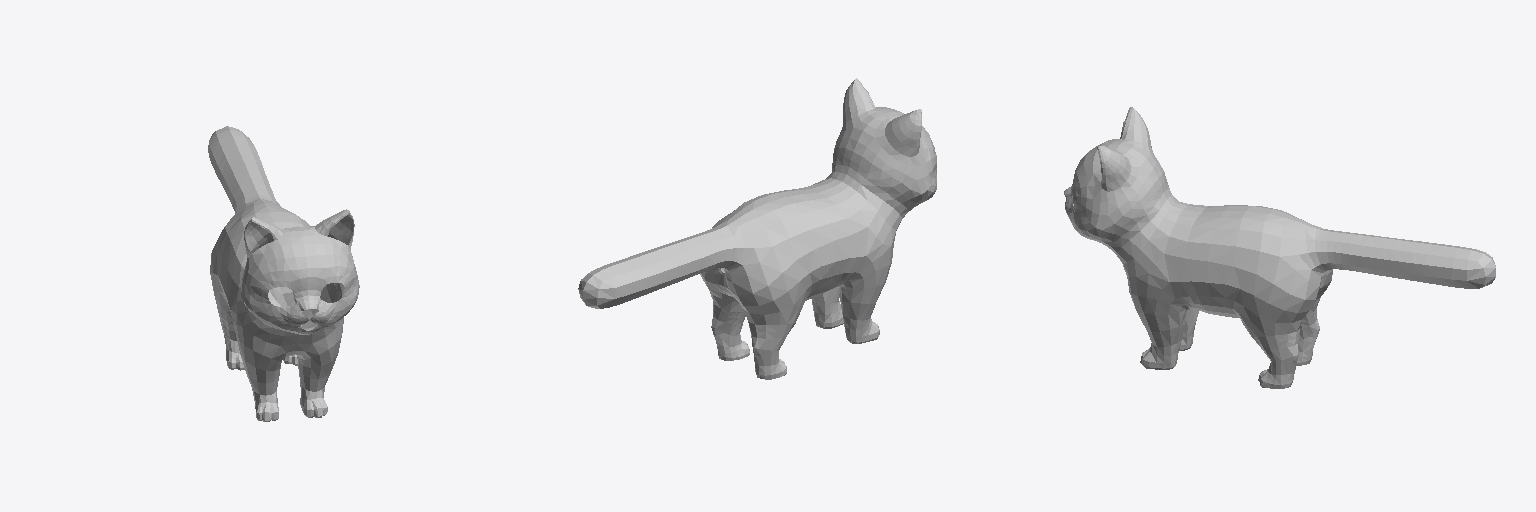
The model's file is KittyS.obj.
The picture shows the model from 3 angles: view 1: azimuth 30°, elevation 25°; view 2: azimuth 150°, elevation 25°; view 3: azimuth 270°, elevation 25°; orthographic projection.
Visible parts, largest first — view 1: 0001_Kitty_SKEL; view 2: 0001_Kitty_SKEL; view 3: 0001_Kitty_SKEL.
Part boxes in pixels (x1,y1,x2,y2): 0001_Kitty_SKEL: (208, 126, 359, 421); 0001_Kitty_SKEL: (578, 78, 936, 379); 0001_Kitty_SKEL: (1064, 107, 1495, 388).
Size of the model in its own units: 3.3 by 4.03 by 7.09.